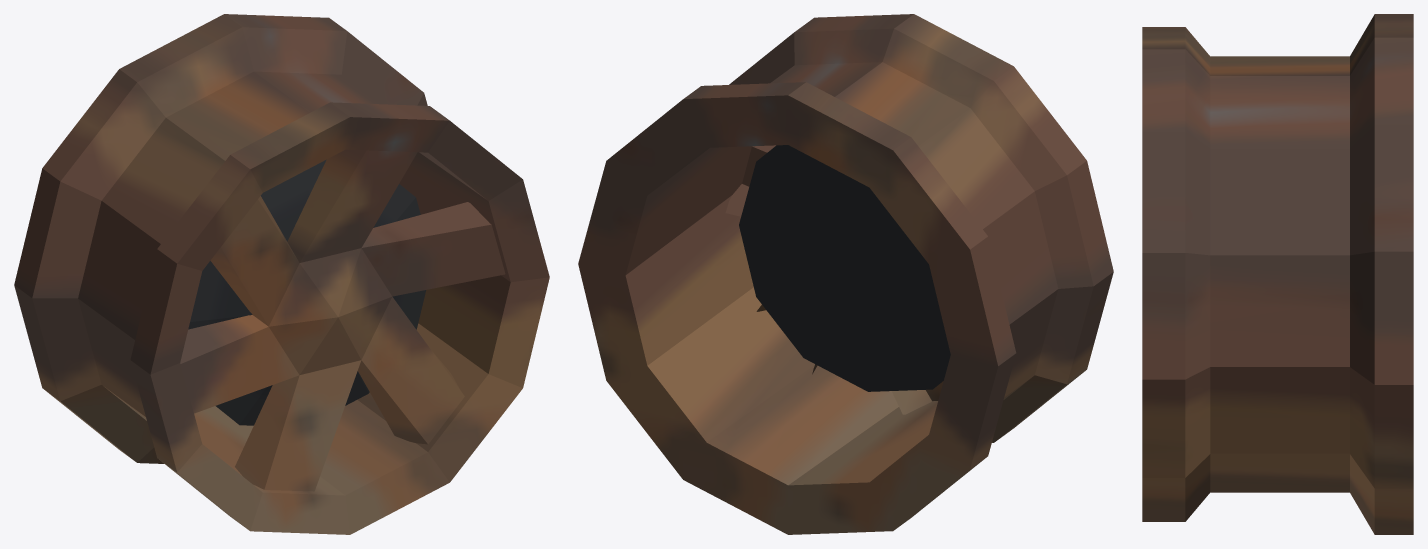
File: SM_Prop_Car_Wrecked_Wheel_03.obj
3 views of the same model, side by side, from view 1: azimuth 30°, elevation 25°; view 2: azimuth 150°, elevation 25°; view 3: azimuth 270°, elevation 25° (orthographic). The views are drawn at different scales.
Visible parts, largest first — view 1: SM_Prop_Car_Wrecked_Wheel_03_0; view 2: SM_Prop_Car_Wrecked_Wheel_03_0; view 3: SM_Prop_Car_Wrecked_Wheel_03_0.
Boxes of the visible parts, x1,y1,x2,y2 form: SM_Prop_Car_Wrecked_Wheel_03_0: [14, 14, 549, 534]; SM_Prop_Car_Wrecked_Wheel_03_0: [578, 14, 1113, 534]; SM_Prop_Car_Wrecked_Wheel_03_0: [1142, 14, 1413, 534].
Size of the model in its own units: 0.5533 by 0.5533 by 0.2874.
Materials: 1 (1 with a texture image).
